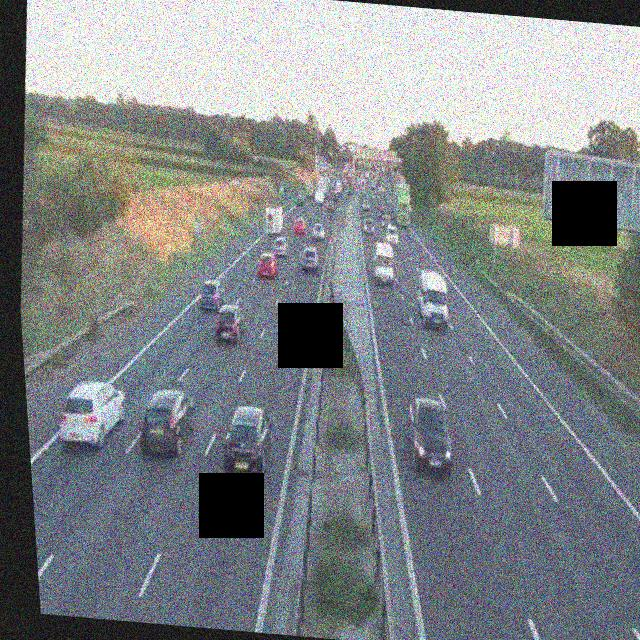car: (53, 377, 130, 450), (135, 385, 199, 457), (403, 395, 458, 475), (219, 403, 276, 478), (211, 303, 246, 344), (195, 278, 226, 312), (256, 248, 280, 280), (299, 245, 321, 273), (269, 231, 287, 254), (310, 221, 327, 241), (292, 218, 308, 236), (382, 218, 397, 236), (363, 218, 375, 236), (294, 192, 306, 205), (324, 199, 335, 213), (360, 198, 370, 212)
truck: (413, 269, 453, 328), (389, 183, 414, 226), (262, 205, 286, 238)
